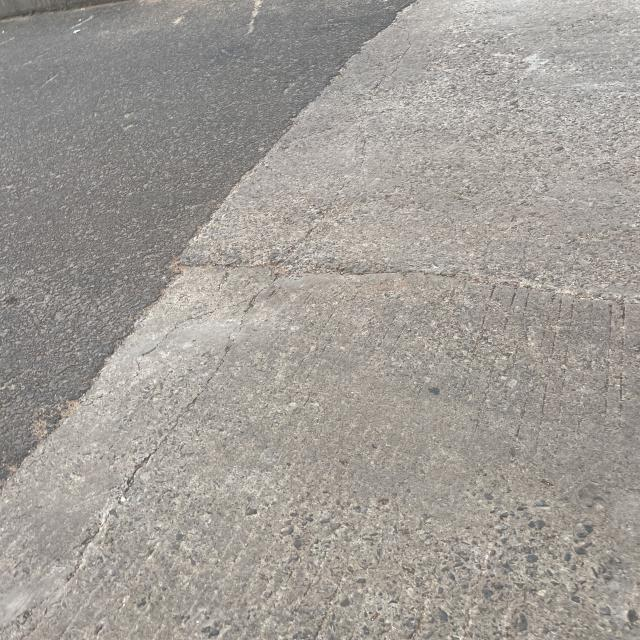D40: (72, 231, 570, 310)
D43: (13, 26, 455, 530)
